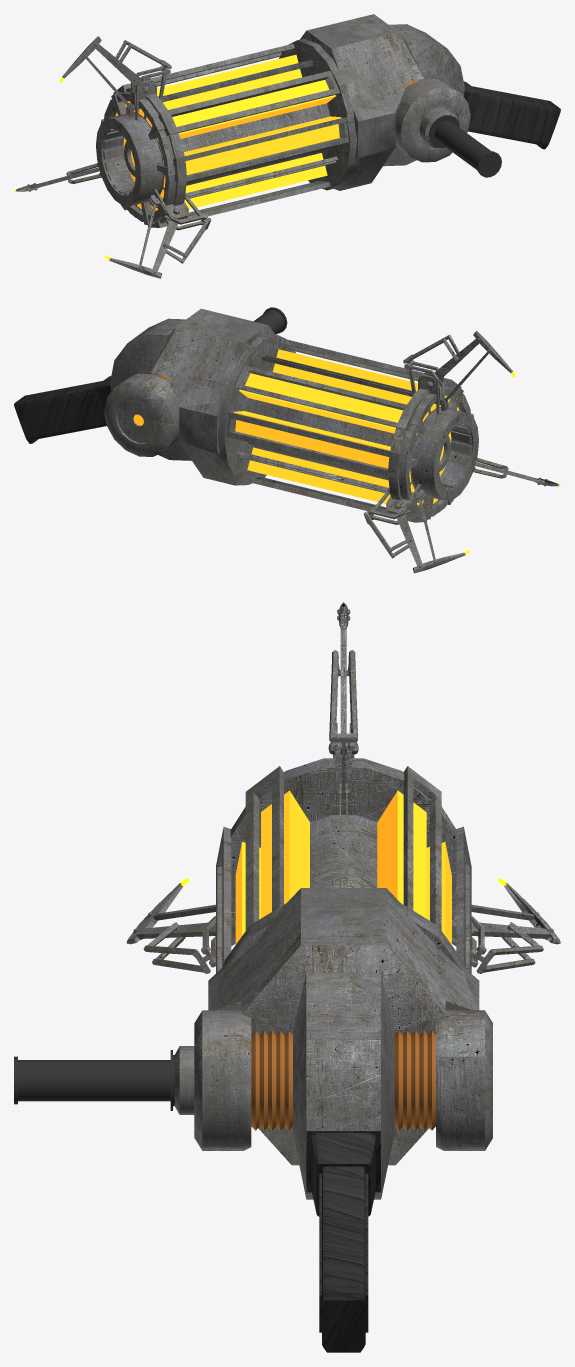
Rendered from gravity_gun.glb.
The picture shows the model from 3 angles, top to bottom: view 1: azimuth 30°, elevation 25°; view 2: azimuth 150°, elevation 25°; view 3: azimuth 270°, elevation 25°; orthographic projection. The views are drawn at different scales.
Parts seen in each view (by area): view 1: Object_8, Object_4, Object_6, Object_7; view 2: Object_8, Object_4, Object_6, Object_7, Object_5; view 3: Object_8, Object_6, Object_4, Object_3, Object_7.
Boxes of the visible parts, bbox=[...] form: Object_8: bbox=[16, 14, 470, 278]; Object_4: bbox=[157, 54, 341, 209]; Object_6: bbox=[463, 81, 560, 149]; Object_7: bbox=[429, 115, 501, 177]; Object_8: bbox=[104, 308, 558, 573]; Object_4: bbox=[233, 349, 417, 503]; Object_6: bbox=[14, 376, 111, 443]; Object_7: bbox=[253, 307, 287, 334]; Object_5: bbox=[133, 395, 459, 505]; Object_8: bbox=[126, 602, 560, 1199]; Object_6: bbox=[306, 1131, 380, 1352]; Object_4: bbox=[235, 790, 451, 944]; Object_3: bbox=[251, 1030, 435, 1130]; Object_7: bbox=[14, 1050, 174, 1110].
Bounding box in the file's own units: 1.13 × 0.4755 × 0.625.
Materials: 7 (2 with a texture image).
